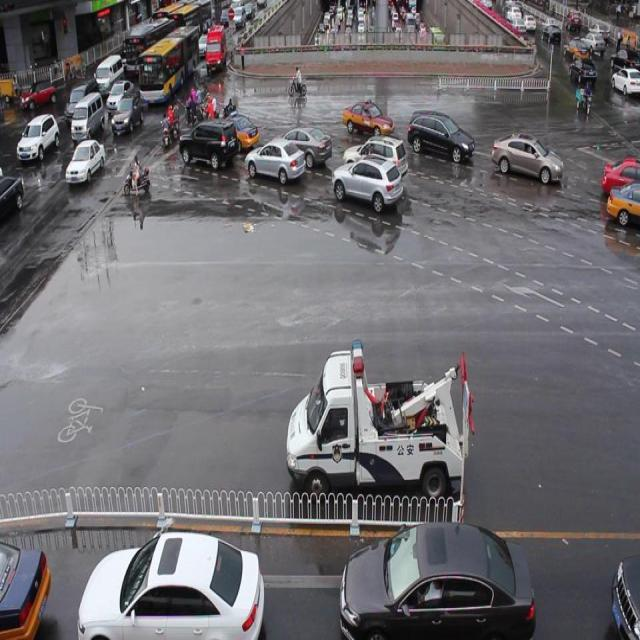BigCar: (126, 36, 195, 101)
car: (289, 344, 480, 488), (72, 531, 291, 640), (342, 544, 540, 635), (495, 117, 572, 199), (338, 146, 401, 234), (406, 102, 480, 174), (243, 128, 302, 206), (5, 108, 65, 176), (175, 116, 236, 181), (282, 105, 338, 166), (59, 142, 115, 198), (338, 91, 396, 137), (103, 82, 150, 130), (206, 27, 230, 81), (69, 89, 96, 134), (618, 53, 638, 107)
